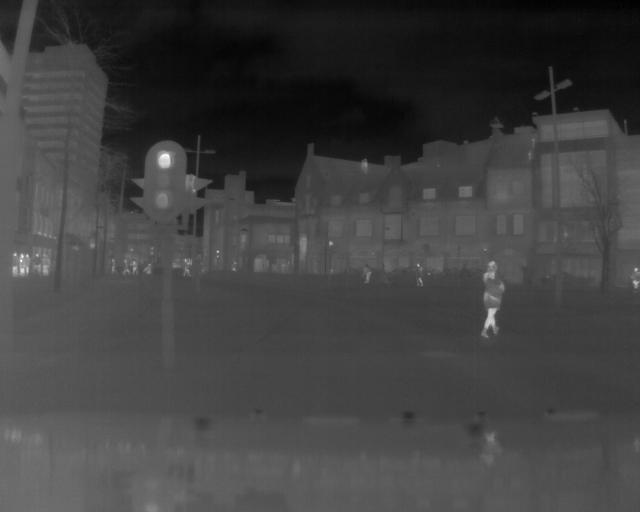person: (482, 256, 504, 342), (414, 261, 425, 288), (631, 264, 640, 291), (12, 251, 19, 280), (24, 250, 32, 274), (34, 250, 41, 277), (19, 248, 25, 279), (42, 253, 50, 276), (131, 256, 138, 275)
